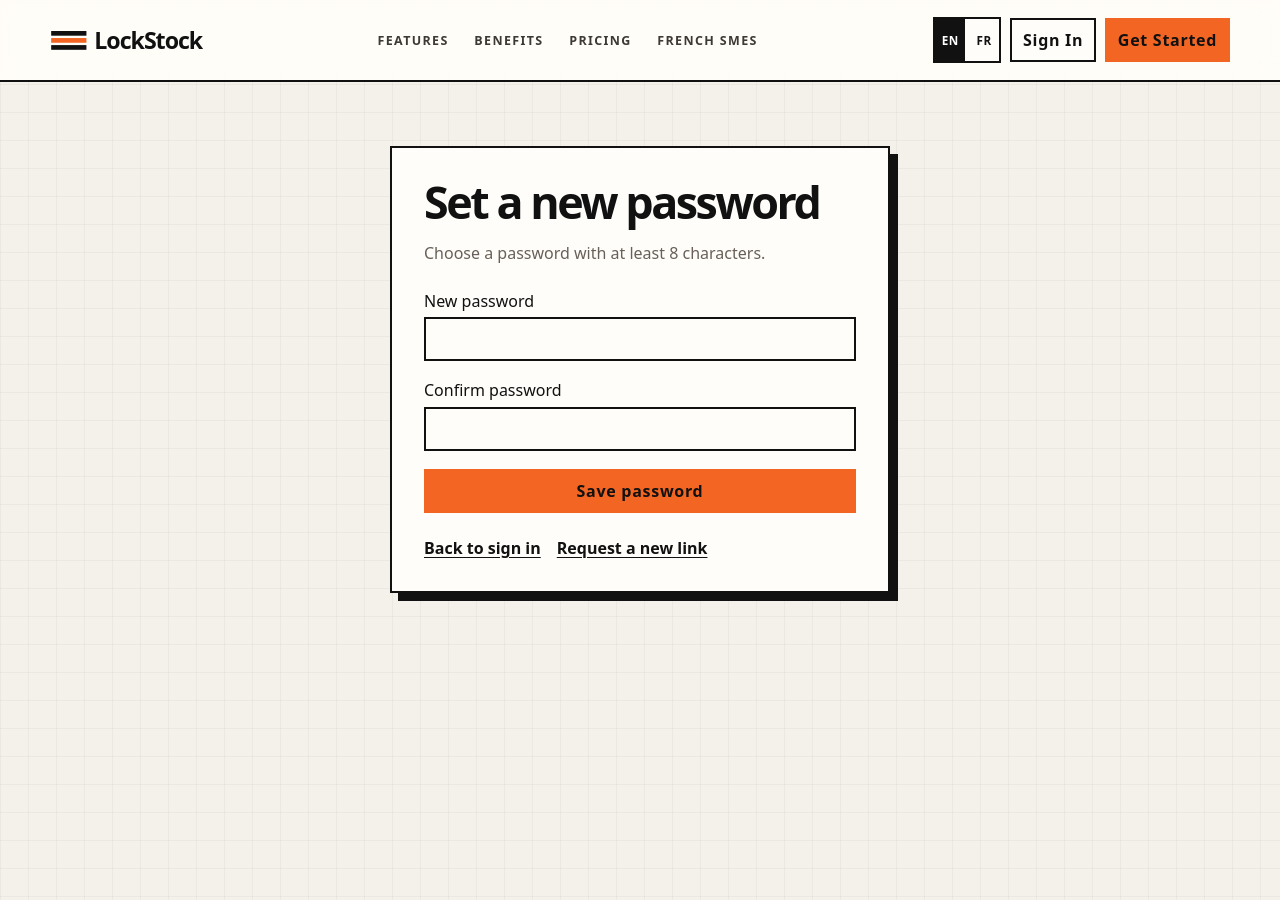
Test: keeps the form available after a rejected password update
In the password field labelled "New password": point(640, 339) x1=424 y1=317 x2=856 y2=361, type "password-123"
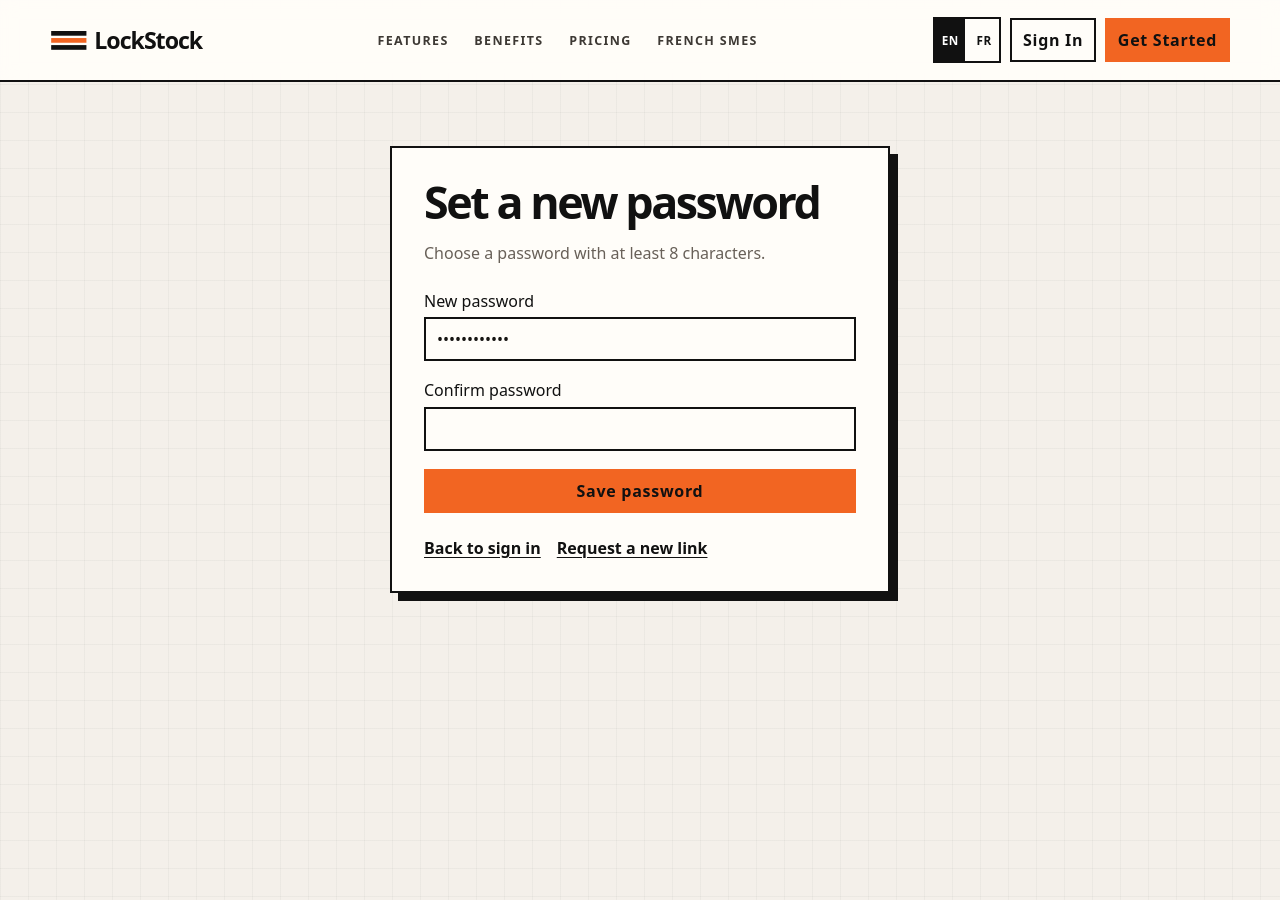
In the password field labelled "Confirm password": point(640, 429) x1=424 y1=407 x2=856 y2=451, type "password-123"
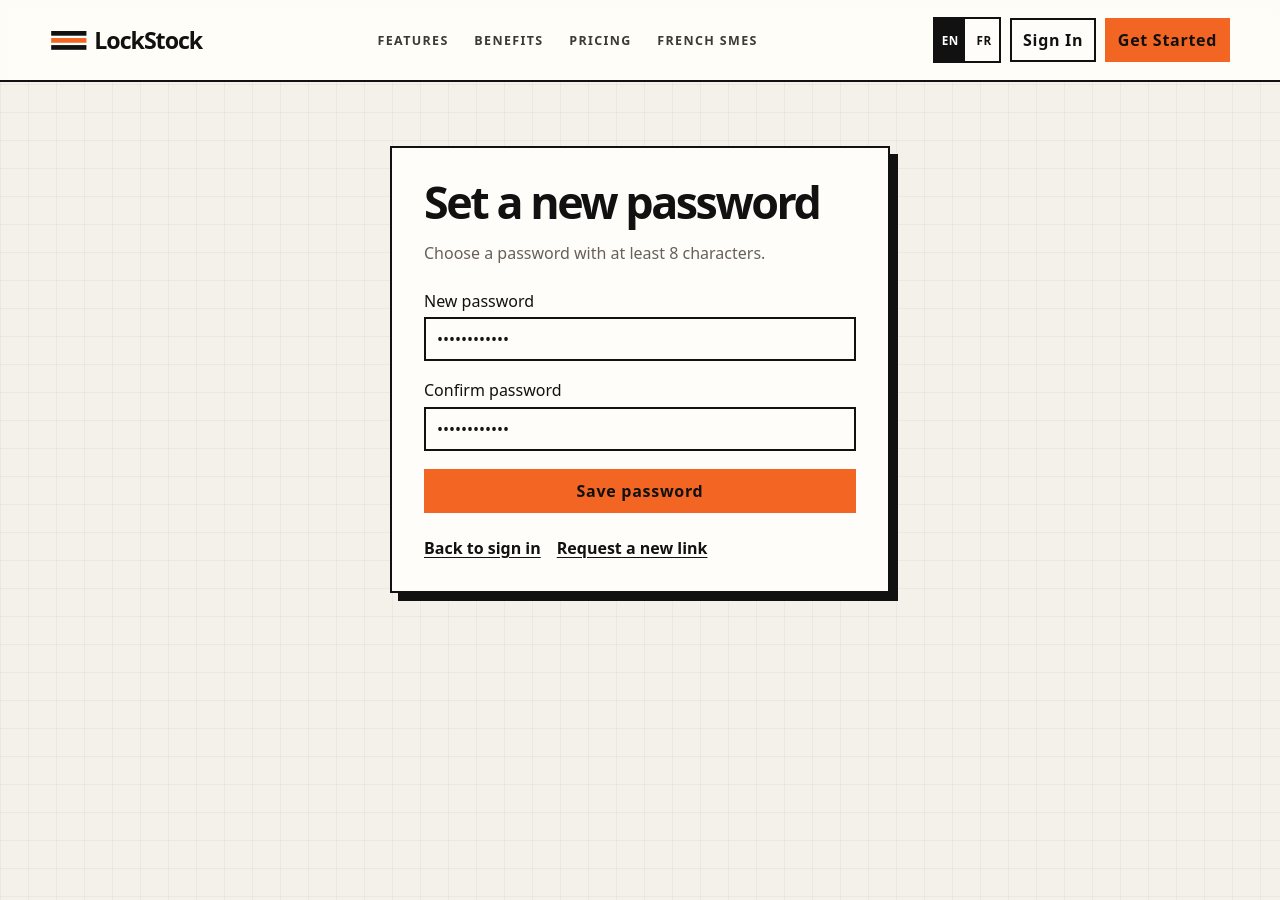
Click the button "Save password": point(640, 491) x1=424 y1=469 x2=856 y2=513
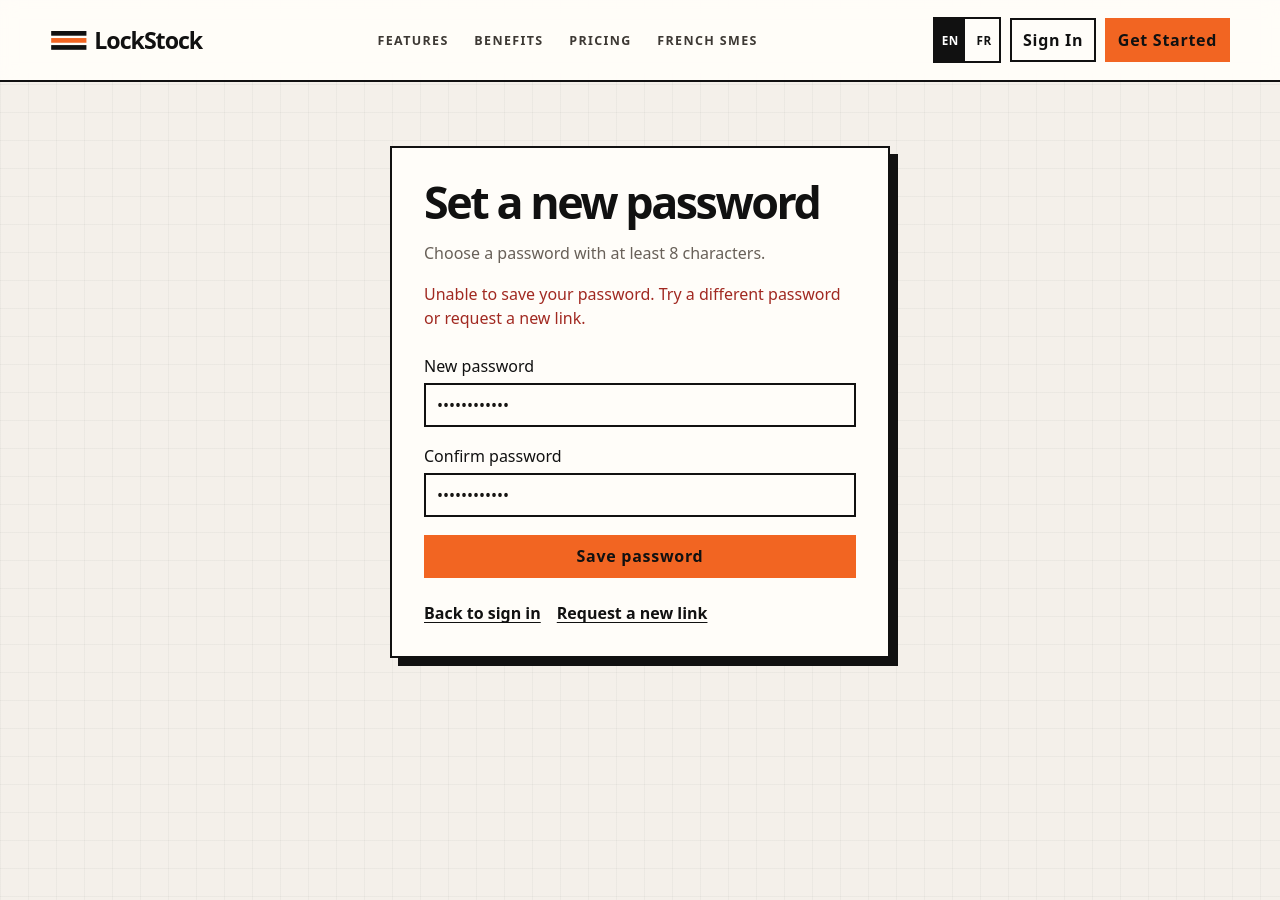
Expected: the button "Save password" is enabled, x1=424 y1=534 x2=856 y2=578
Now the message shows "Unable to save", box x1=424 y1=283 x2=841 y2=329
